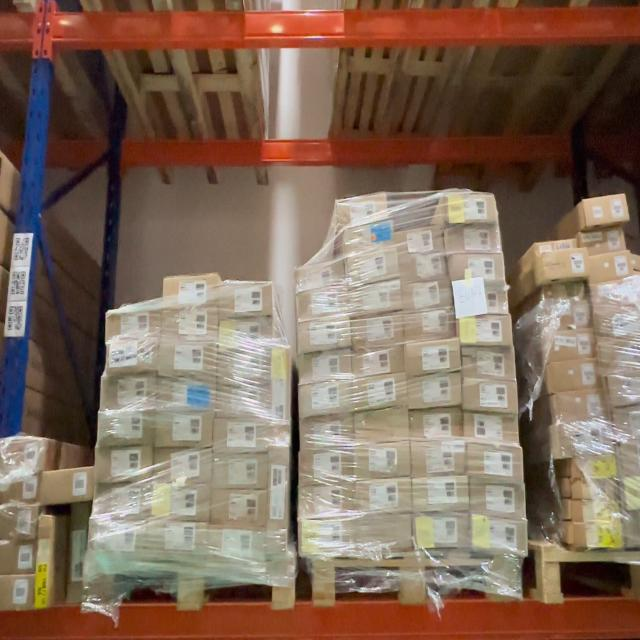box: (268, 444, 290, 557), (214, 418, 284, 453), (217, 382, 282, 418), (147, 523, 210, 559), (217, 351, 280, 387), (160, 342, 217, 379), (209, 526, 264, 564), (151, 485, 212, 519), (156, 413, 215, 448), (154, 449, 214, 483), (355, 481, 412, 516), (454, 282, 511, 317), (473, 484, 528, 520), (473, 520, 528, 556), (158, 379, 216, 413), (413, 477, 468, 512), (219, 316, 274, 351), (356, 518, 414, 551), (300, 521, 353, 557), (464, 410, 518, 445), (355, 442, 409, 477), (97, 447, 151, 482), (100, 412, 154, 447), (354, 376, 408, 411), (221, 281, 275, 316), (162, 305, 216, 340), (101, 376, 155, 411), (296, 320, 351, 354), (91, 522, 147, 555), (299, 449, 353, 483), (212, 489, 264, 524), (416, 516, 469, 550), (556, 424, 612, 456), (410, 375, 462, 409), (470, 446, 522, 480), (214, 454, 266, 488), (356, 411, 409, 444), (412, 443, 465, 476), (407, 342, 460, 375), (299, 383, 352, 416), (165, 273, 218, 306), (349, 281, 402, 314), (299, 484, 353, 516), (346, 250, 400, 282), (463, 349, 515, 382), (42, 469, 94, 502), (35, 514, 53, 609), (353, 313, 403, 347), (464, 381, 517, 413), (299, 416, 352, 448), (459, 315, 512, 347), (108, 307, 161, 339), (296, 288, 348, 320), (107, 341, 159, 373), (446, 191, 496, 224), (99, 484, 149, 517), (411, 408, 464, 439), (555, 392, 608, 423), (550, 360, 598, 394), (342, 222, 395, 252), (537, 248, 587, 279), (300, 354, 353, 383), (355, 348, 405, 378), (405, 309, 455, 339), (547, 330, 595, 361), (446, 225, 499, 253), (341, 196, 390, 226), (452, 254, 506, 281), (545, 299, 592, 330), (404, 280, 452, 310), (584, 195, 628, 227), (596, 306, 640, 338), (3, 438, 45, 471), (298, 260, 344, 290), (586, 251, 632, 281), (596, 339, 640, 369), (1, 507, 40, 540), (401, 254, 448, 281), (1, 574, 36, 610), (398, 227, 444, 254), (594, 280, 638, 308), (0, 474, 40, 504), (0, 540, 33, 574), (572, 525, 618, 549), (582, 228, 628, 252), (542, 281, 586, 305), (535, 239, 580, 262), (608, 375, 639, 408), (573, 480, 616, 501), (571, 457, 614, 478), (574, 501, 614, 523), (616, 409, 640, 443), (617, 443, 640, 477), (618, 515, 640, 547), (619, 480, 640, 510)
